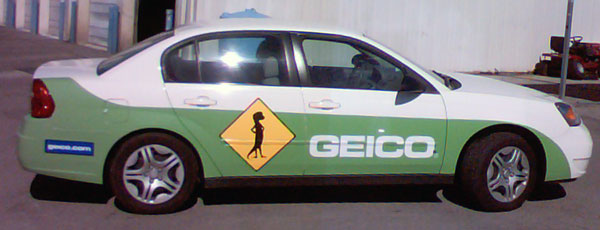geico: (306, 132, 450, 160)
